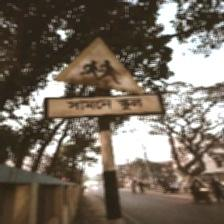School-in-front: (45, 36, 162, 121)
